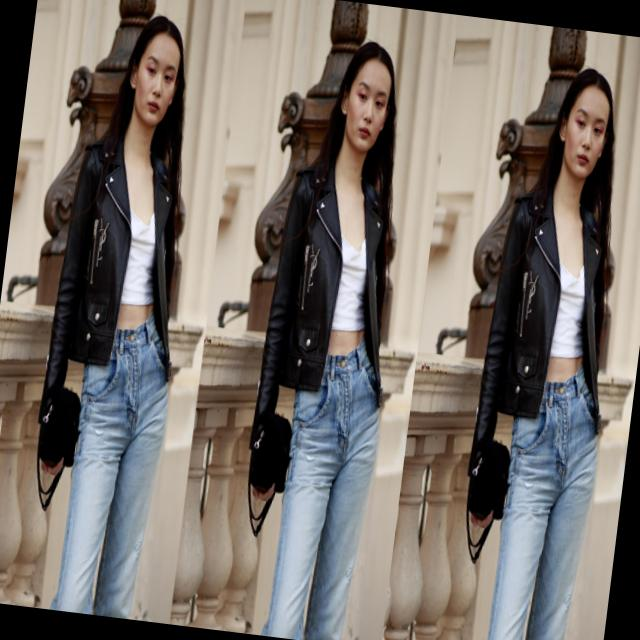Jacket: (434, 177, 636, 532), (25, 118, 214, 478), (227, 162, 428, 490)
